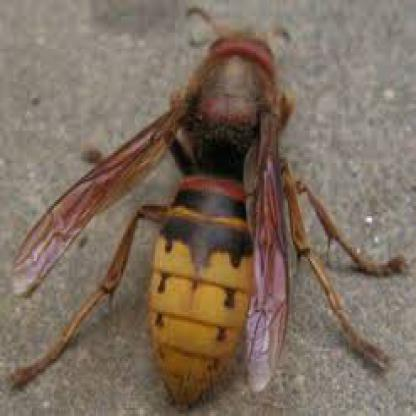european: (20, 25, 399, 388)
